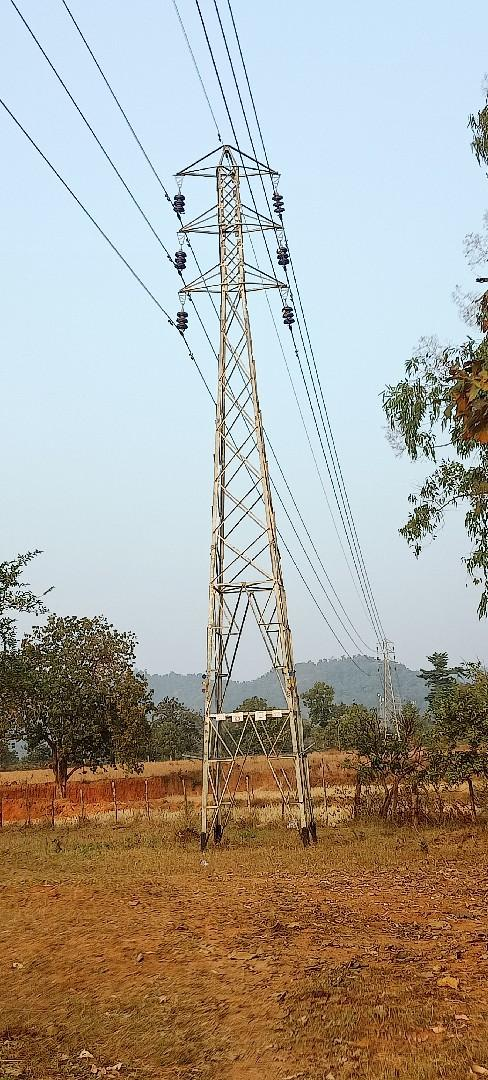GSM Antenna: (170, 139, 323, 822)
